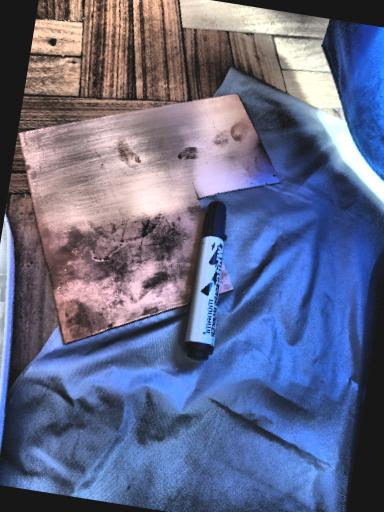marcador negro: (184, 201, 226, 360)
